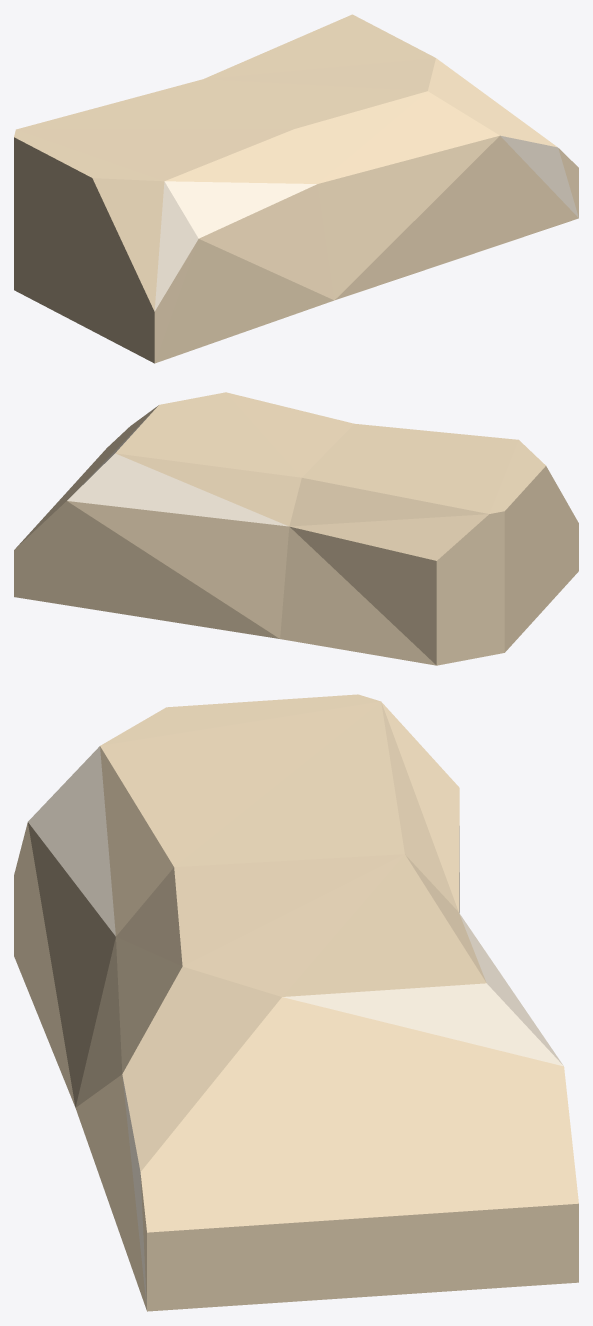
File: desert_rock_11.fbx
3 renders of one model, top to bottom at view 1: azimuth 30°, elevation 25°; view 2: azimuth 150°, elevation 25°; view 3: azimuth 270°, elevation 25°, orthographic. The views are drawn at different scales.
Parts seen in each view (by area): view 1: desert_rock_11; view 2: desert_rock_11; view 3: desert_rock_11.
Boxes of the visible parts, <box> form: desert_rock_11: <box>14,14,578,363</box>; desert_rock_11: <box>14,392,578,665</box>; desert_rock_11: <box>14,694,578,1311</box>.
Size of the model in its own units: 125 by 36.68 by 78.7.
